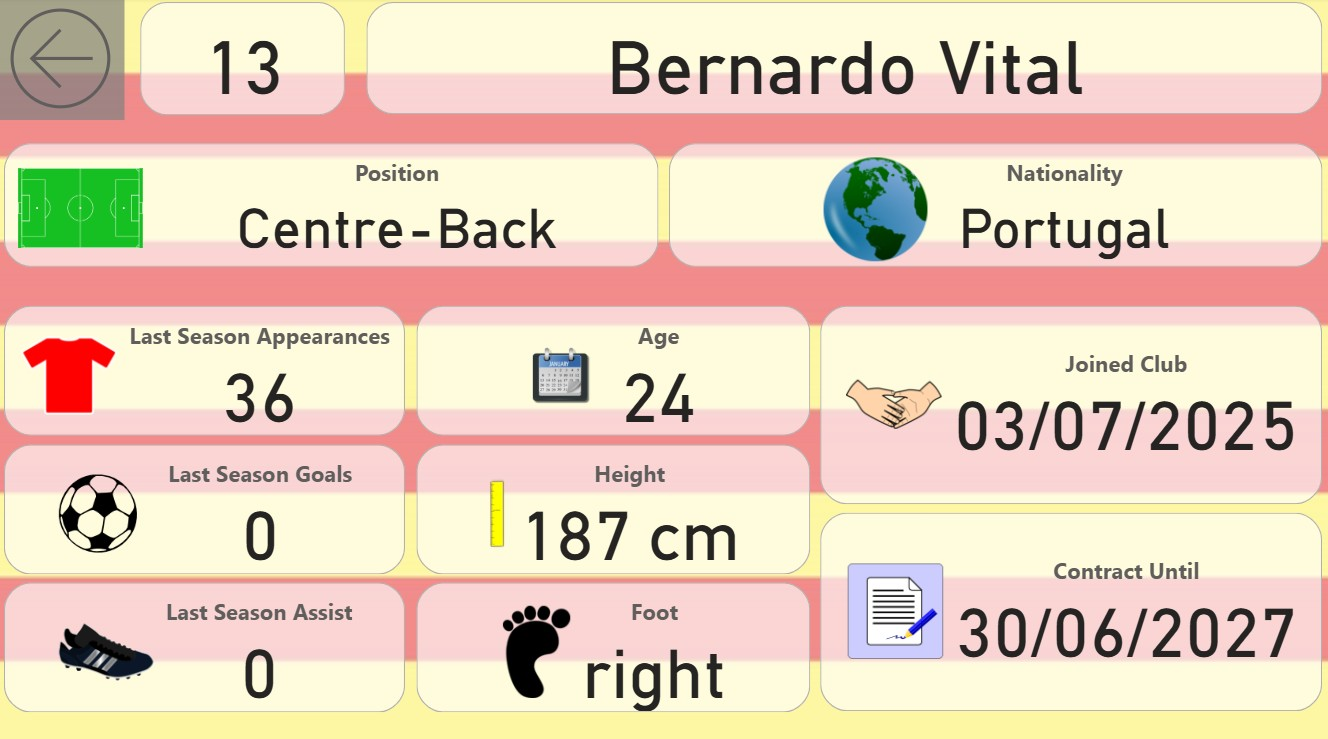

The page's visual inventory and layout, read from the dashboard file:
{"tool":"powerbi","page":{"name":"Player_Details","canvas":[1280,720],"ordinal":1},"visuals":[{"type":"actionButton","box":[0,0,121.2,118.3],"z":0},{"type":"cardVisual","fields":{"Data":["TRANSFERS.PLAYER_NAME"]},"box":[349.1,0,930.6,118.3],"z":1000},{"type":"cardVisual","fields":{"Data":["_MEASURES.Selected Player Number"]},"box":[131.3,0,207.8,119.7],"z":2000},{"type":"cardVisual","fields":{"Data":["_MEASURES.Selected Player Position"]},"box":[0,135.6,640.6,129.8],"z":3000},{"type":"cardVisual","fields":{"Data":["TRANSFERS.APPEARANCES_LAST_SEASON","TRANSFERS.GOALS_LAST_SEASON","TRANSFERS.ASSISTS_LAST_SEASON"]},"box":[0,292.9,396.8,401.1],"z":4000},{"type":"cardVisual","fields":{"Data":["Measure.Selected Player Age","Measure.Selected Player Height","Measure.Selected Player Preferred Foot"]},"box":[396.8,292.9,389.5,401.1],"z":5000},{"type":"cardVisual","fields":{"Data":["Measure.Selected Player Joined Club","Measure.Selected Player Contract"]},"box":[786.3,292.9,493.4,401.1],"z":6000},{"type":"cardVisual","fields":{"Data":["Measure.Selected Player Nationality"]},"box":[640.6,135.6,639.1,129.8],"z":7000}]}

Visuals, with their boxes in screenshot pixels (x1, y1, x2, y2), scaled from the page's 1280x720 canvas onto the 1328x739 screenshot:
actionButton: [0,0,126,121]
cardVisual - TRANSFERS.PLAYER_NAME: [362,0,1327,121]
cardVisual - _MEASURES.Selected Player Number: [136,0,352,123]
cardVisual - _MEASURES.Selected Player Position: [0,139,665,272]
cardVisual - TRANSFERS.APPEARANCES_LAST_SEASON x TRANSFERS.GOALS_LAST_SEASON: [0,301,412,712]
cardVisual - Measure.Selected Player Age x Measure.Selected Player Height: [412,301,816,712]
cardVisual - Measure.Selected Player Joined Club x Measure.Selected Player Contract: [816,301,1327,712]
cardVisual - Measure.Selected Player Nationality: [665,139,1327,272]
